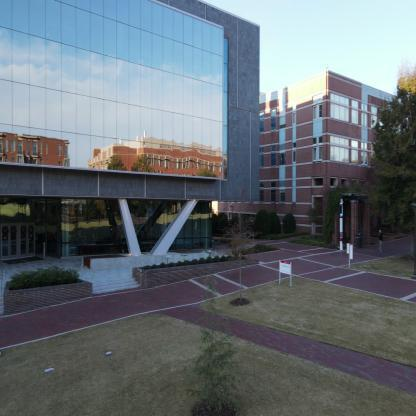EB-1: (274, 47, 415, 283)
Fitts- Woolard: (0, 9, 269, 312)
